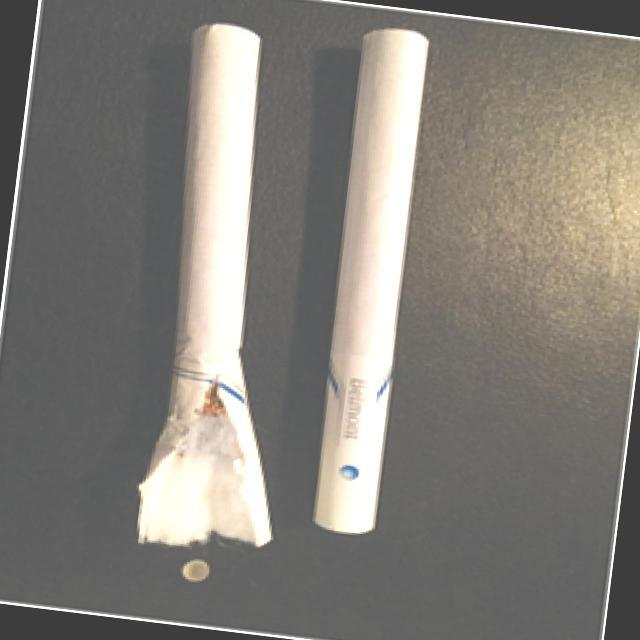cigarette: (302, 14, 442, 542)
